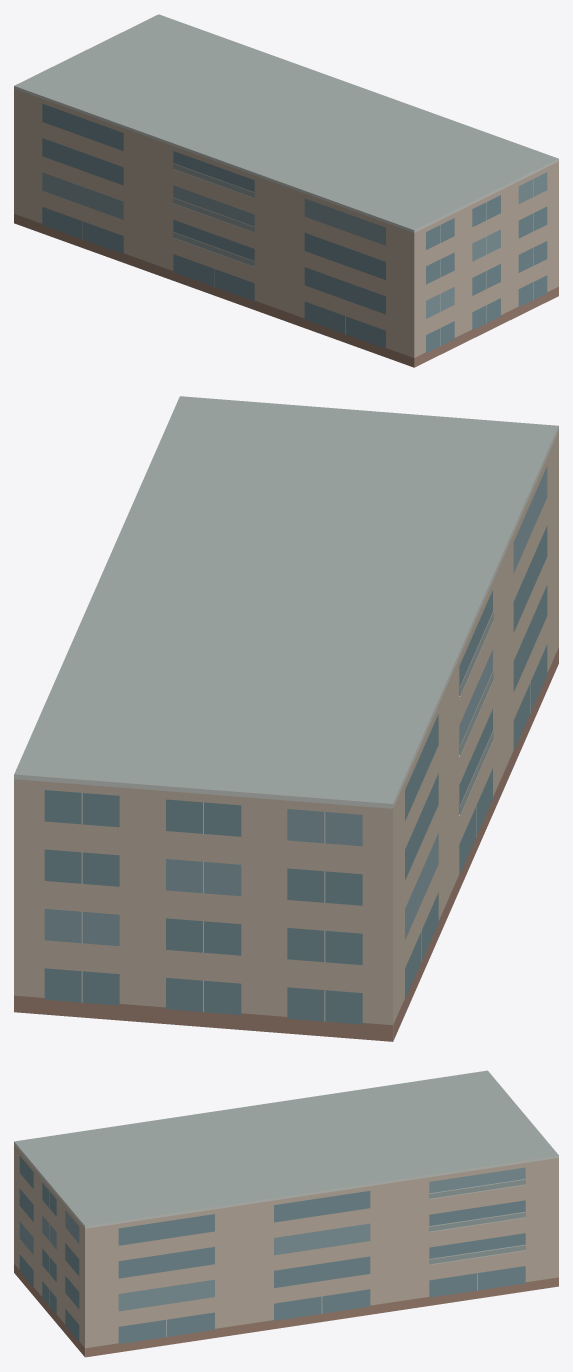
The model's file is residential-8ea93bc1-fd52-4402-ad4d-8c14c2b14936.glb.
3 views of the same model, one above another, from view 1: azimuth 30°, elevation 25°; view 2: azimuth 150°, elevation 25°; view 3: azimuth 270°, elevation 25° (orthographic). The views are drawn at different scales.
Visible parts, largest first — view 1: residential-8ea93bc1-fd52-4402-ad4d-8c14c2b14936.tmp; view 2: residential-8ea93bc1-fd52-4402-ad4d-8c14c2b14936.tmp; view 3: residential-8ea93bc1-fd52-4402-ad4d-8c14c2b14936.tmp.
Boxes of the visible parts, x1,y1,x2,y2 form: residential-8ea93bc1-fd52-4402-ad4d-8c14c2b14936.tmp: [14, 14, 558, 367]; residential-8ea93bc1-fd52-4402-ad4d-8c14c2b14936.tmp: [14, 396, 558, 1041]; residential-8ea93bc1-fd52-4402-ad4d-8c14c2b14936.tmp: [14, 1070, 558, 1357].
Size of the model in its own units: 31.04 by 12.2 by 45.91.
